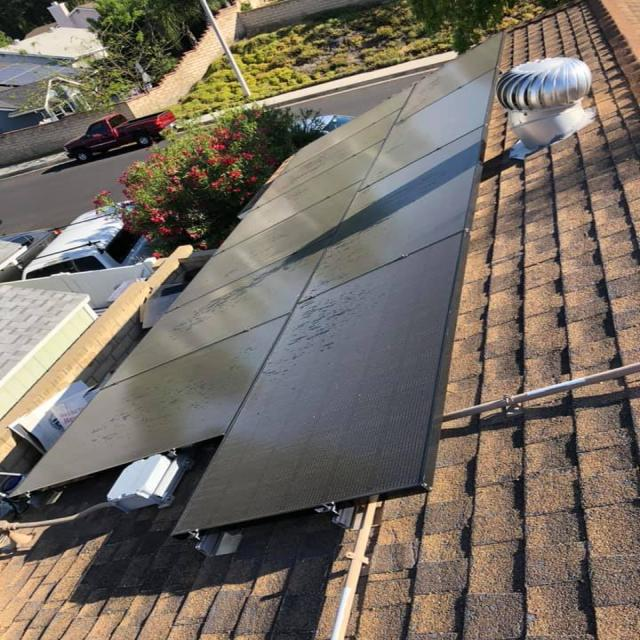dust-solar-panel: (4, 26, 507, 535)
